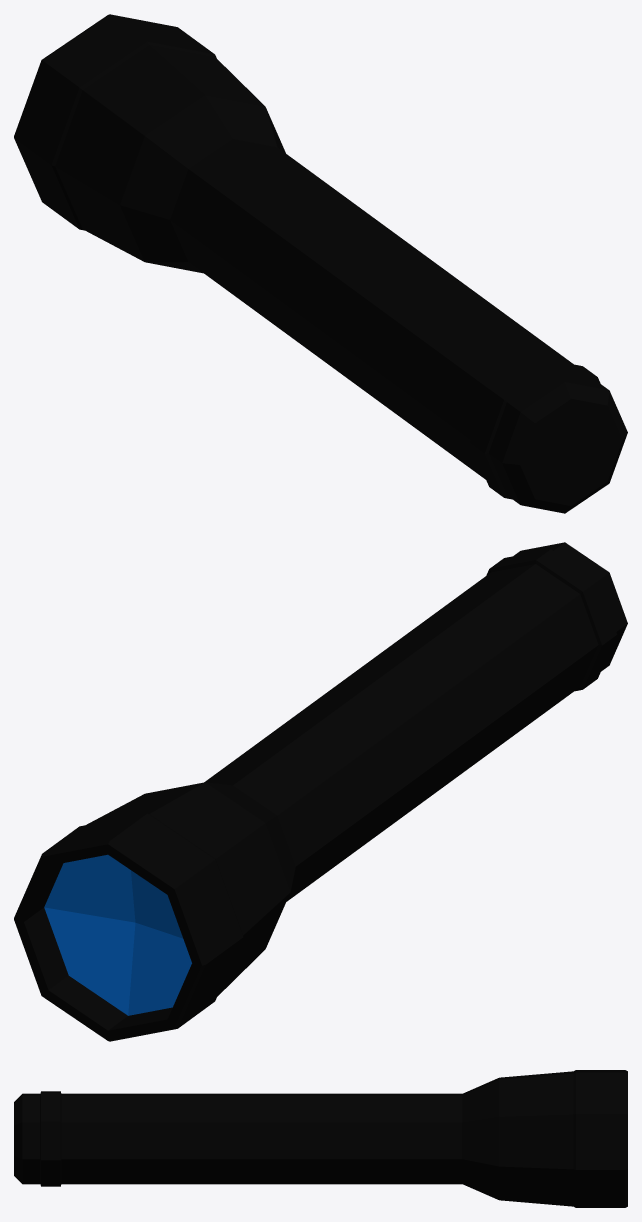
File: flashlight.fbx
The picture shows the model from 3 angles, top to bottom: view 1: azimuth 30°, elevation 25°; view 2: azimuth 150°, elevation 25°; view 3: azimuth 270°, elevation 25°; orthographic projection. The views are drawn at different scales.
Parts seen in each view (by area): view 1: Cylinder.002; view 2: Cylinder.002; view 3: Cylinder.002.
Part boxes in pixels (box(x1,y1,x2,y2)): Cylinder.002: box(14, 14, 627, 513); Cylinder.002: box(14, 542, 627, 1041); Cylinder.002: box(14, 1070, 627, 1207).
Bounding box in the file's own units: 6.68 × 6.68 × 27.93.
